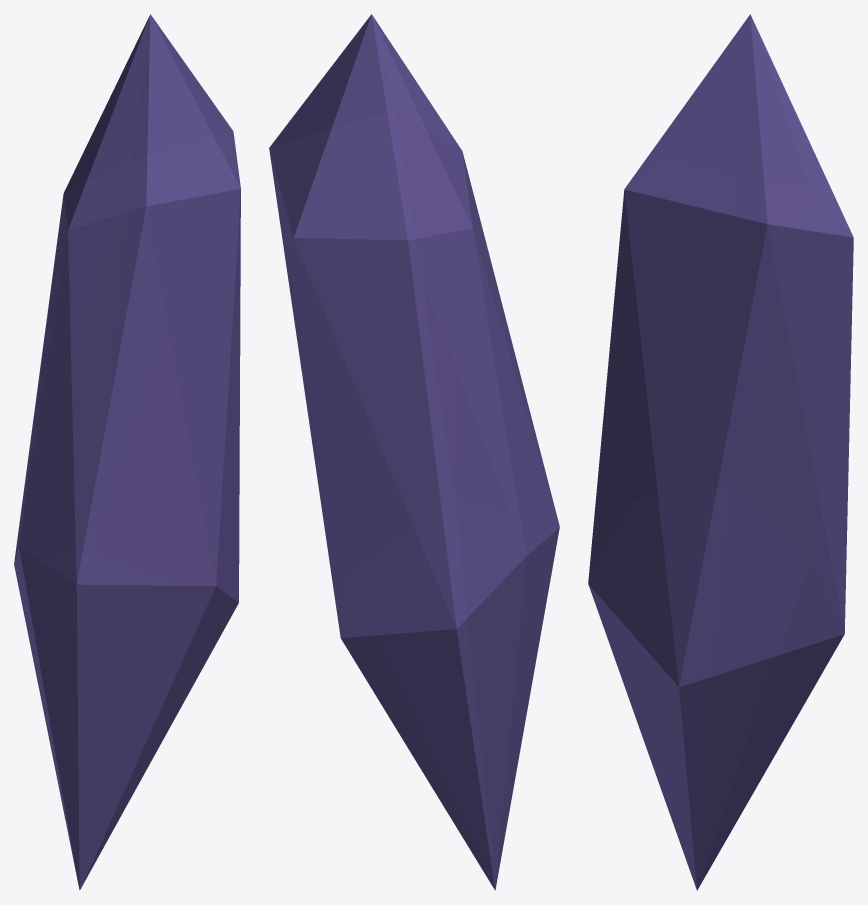
File: single_crystal.fbx
The picture shows the model from 3 angles, left to right: view 1: azimuth 30°, elevation 25°; view 2: azimuth 150°, elevation 25°; view 3: azimuth 270°, elevation 25°; orthographic projection. The views are drawn at different scales.
Visible parts, largest first — view 1: pCylinder64; view 2: pCylinder64; view 3: pCylinder64.
Part boxes in pixels (box(x1,y1,x2,y2)): pCylinder64: box(14, 14, 240, 890); pCylinder64: box(269, 14, 559, 890); pCylinder64: box(588, 14, 853, 890).
Size of the model in its own units: 1.24 by 4.31 by 1.12.
